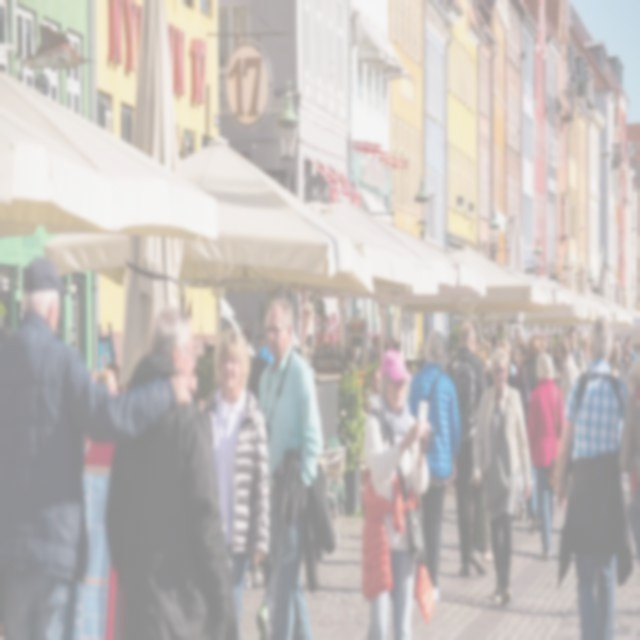pessoa: (0, 257, 194, 639), (104, 302, 240, 638), (555, 312, 630, 639), (258, 293, 328, 639), (354, 341, 430, 639), (201, 326, 271, 638), (258, 297, 308, 639), (471, 346, 534, 608), (406, 328, 463, 603), (442, 321, 488, 579), (522, 348, 566, 564), (610, 334, 640, 634), (489, 337, 521, 392), (558, 336, 581, 411), (94, 350, 125, 392), (366, 330, 404, 362), (525, 333, 544, 396), (524, 333, 542, 398), (364, 366, 384, 416), (568, 324, 588, 374), (474, 343, 495, 388), (514, 342, 530, 389), (580, 332, 593, 369), (332, 336, 344, 364), (484, 332, 499, 354), (539, 332, 550, 348)
